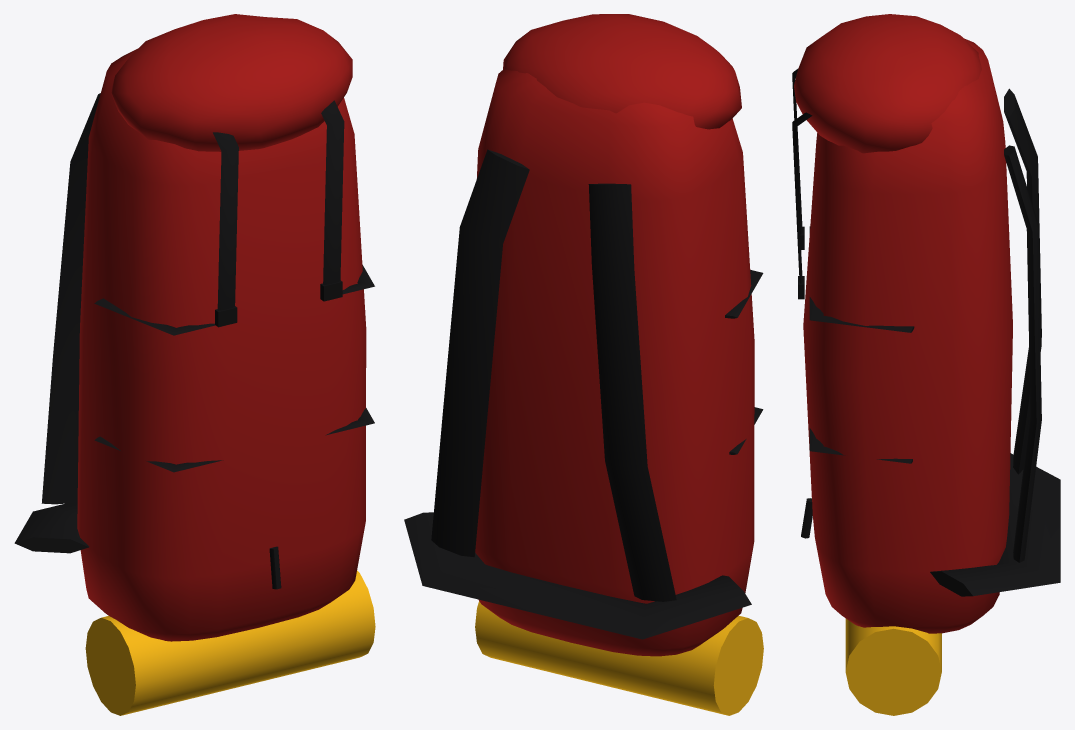
Rendered from expedition_pack.glb.
The picture shows the model from 3 angles, left to right: view 1: azimuth 30°, elevation 25°; view 2: azimuth 150°, elevation 25°; view 3: azimuth 270°, elevation 25°; orthographic projection. The views are drawn at different scales.
Parts seen in each view (by area): view 1: expedition_pack; view 2: expedition_pack; view 3: expedition_pack.
Boxes of the visible parts, x1,y1,x2,y2 form: expedition_pack: (14,14,375,715); expedition_pack: (404,14,763,715); expedition_pack: (792,14,1060,715).
Bounding box in the file's own units: 0.481 × 0.86 × 0.3347.
